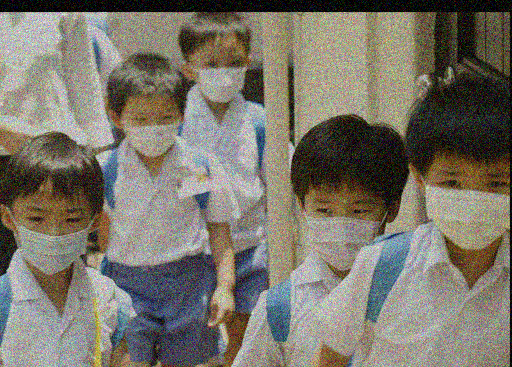with_mask: (421, 165, 509, 254), (304, 192, 385, 272), (13, 203, 89, 277), (121, 104, 180, 159), (193, 51, 246, 105)
